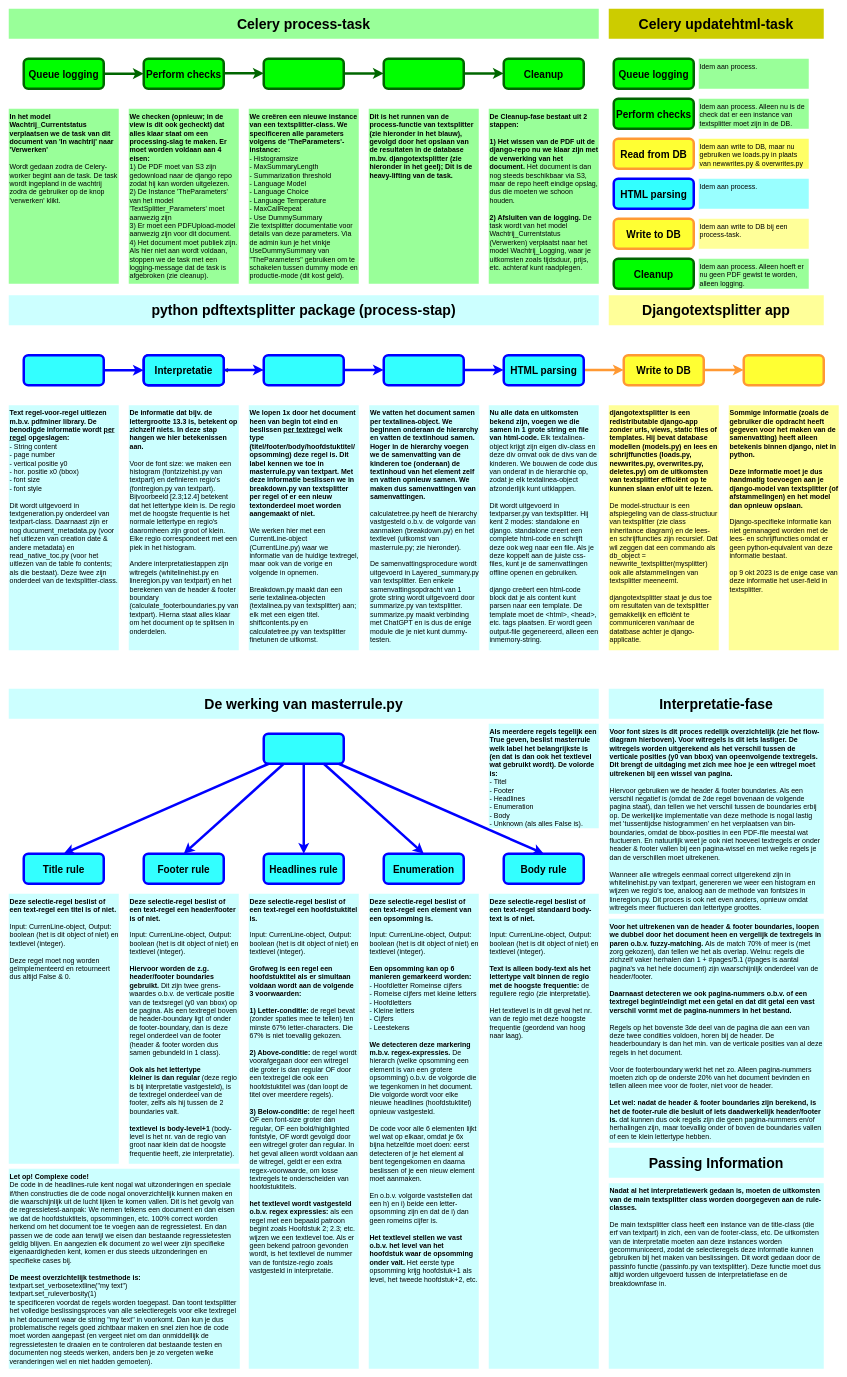
This 847x1377 diagram has some shape labels left out. The box of each missing label's shape, as (x1, y1, x2, y2) in pixels:
Add django-info: (742, 354, 825, 386)
Breakdown: (262, 354, 345, 386)
Masterrule: (262, 732, 345, 765)
Parameters: (262, 57, 345, 90)
PDF inlezen: (22, 354, 105, 386)
Process: (382, 57, 465, 90)
Samenvatten: (382, 354, 465, 386)
